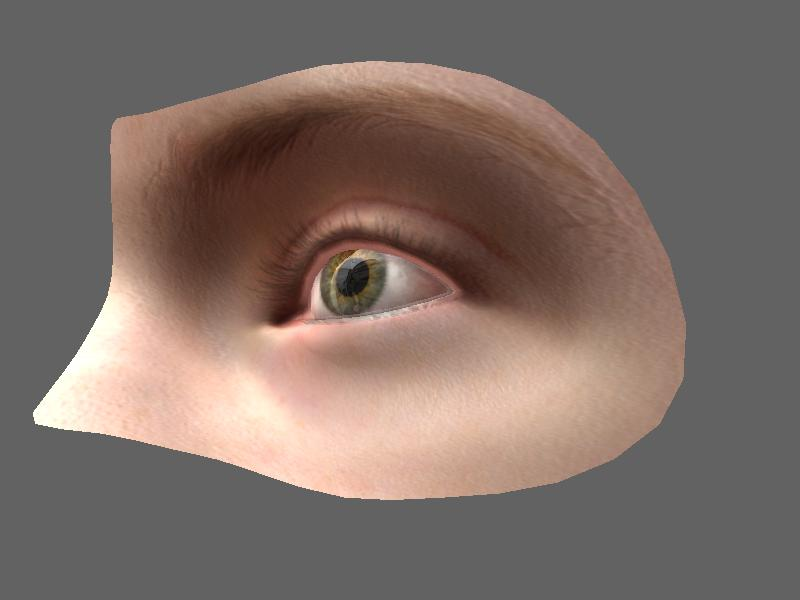iris: (311, 248, 395, 314)
